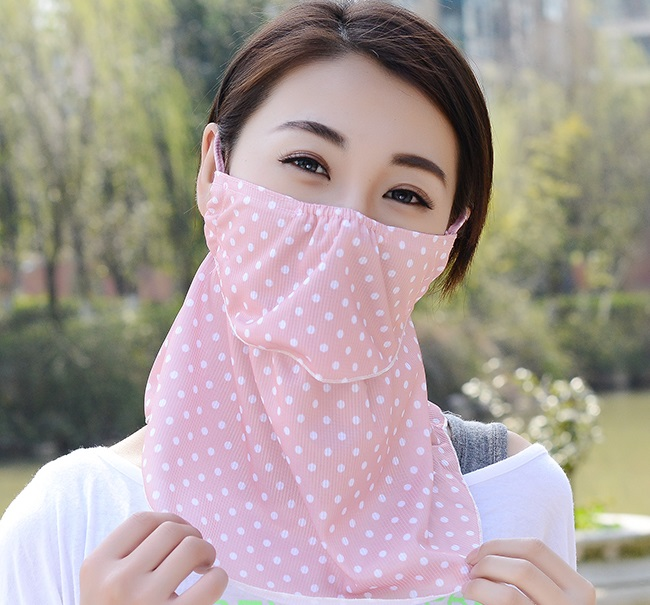face_mask: (225, 67, 455, 351)
